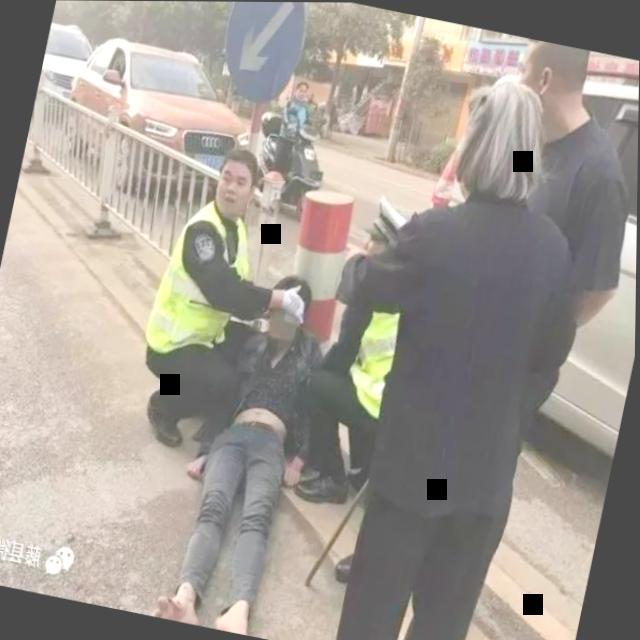Fall-Detected: (139, 236, 367, 640)
